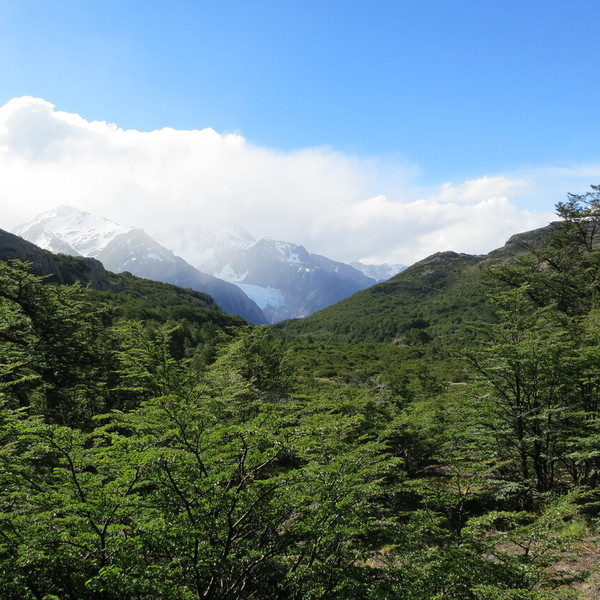obstacle: (39, 362, 558, 585)
